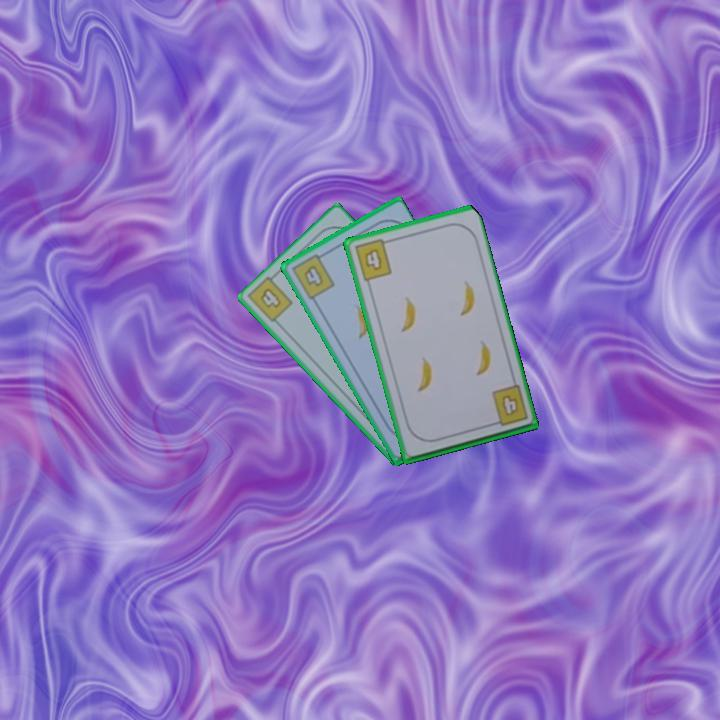4b: (288, 249, 337, 302), (486, 382, 531, 429), (351, 236, 395, 284), (256, 284, 284, 311)
